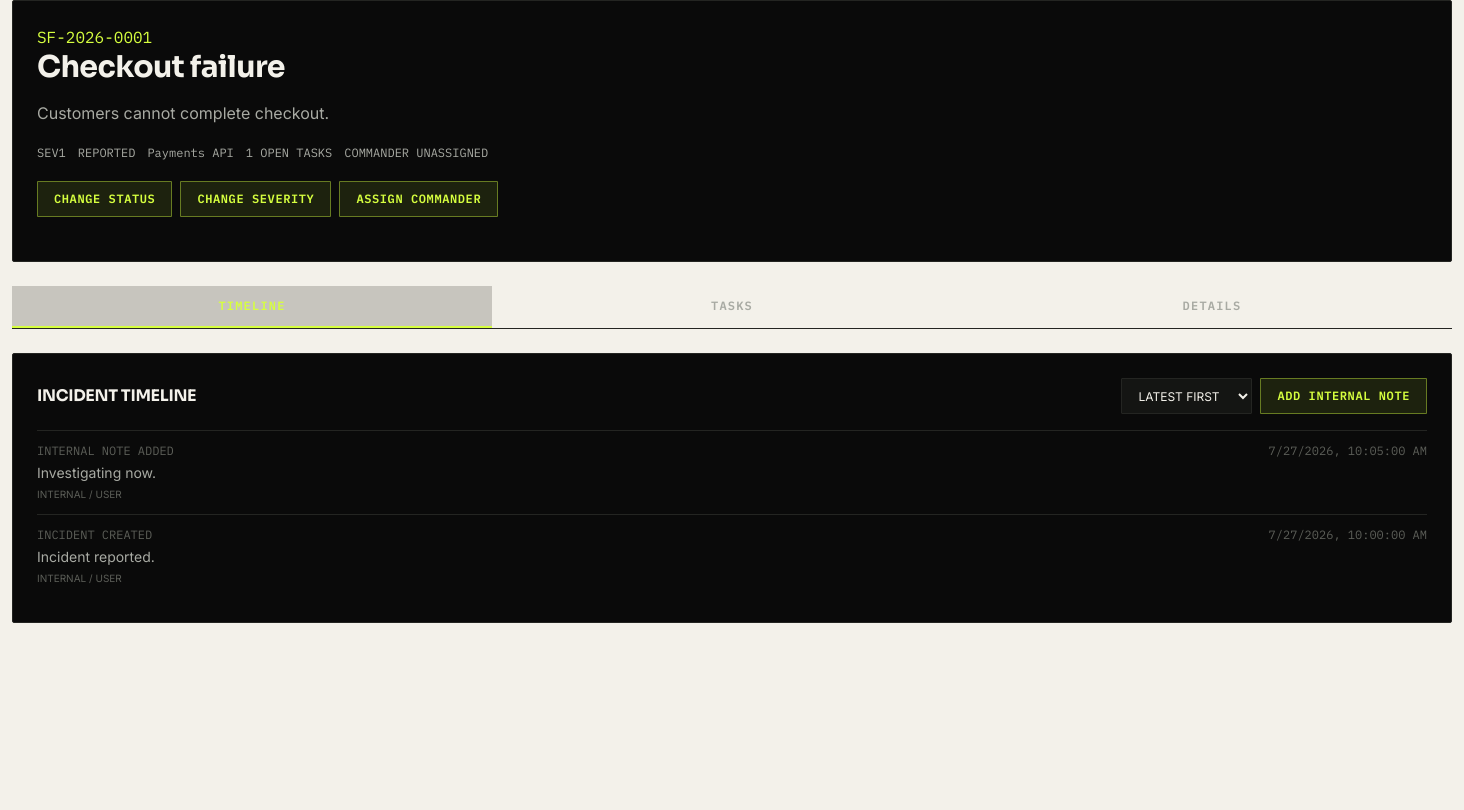
Phase 05 live coordination surfaces › disables claim while the mutation is pending to prevent duplicate interaction
Click the tab "TASKS": [732, 307] box 492,286 -> 972,328
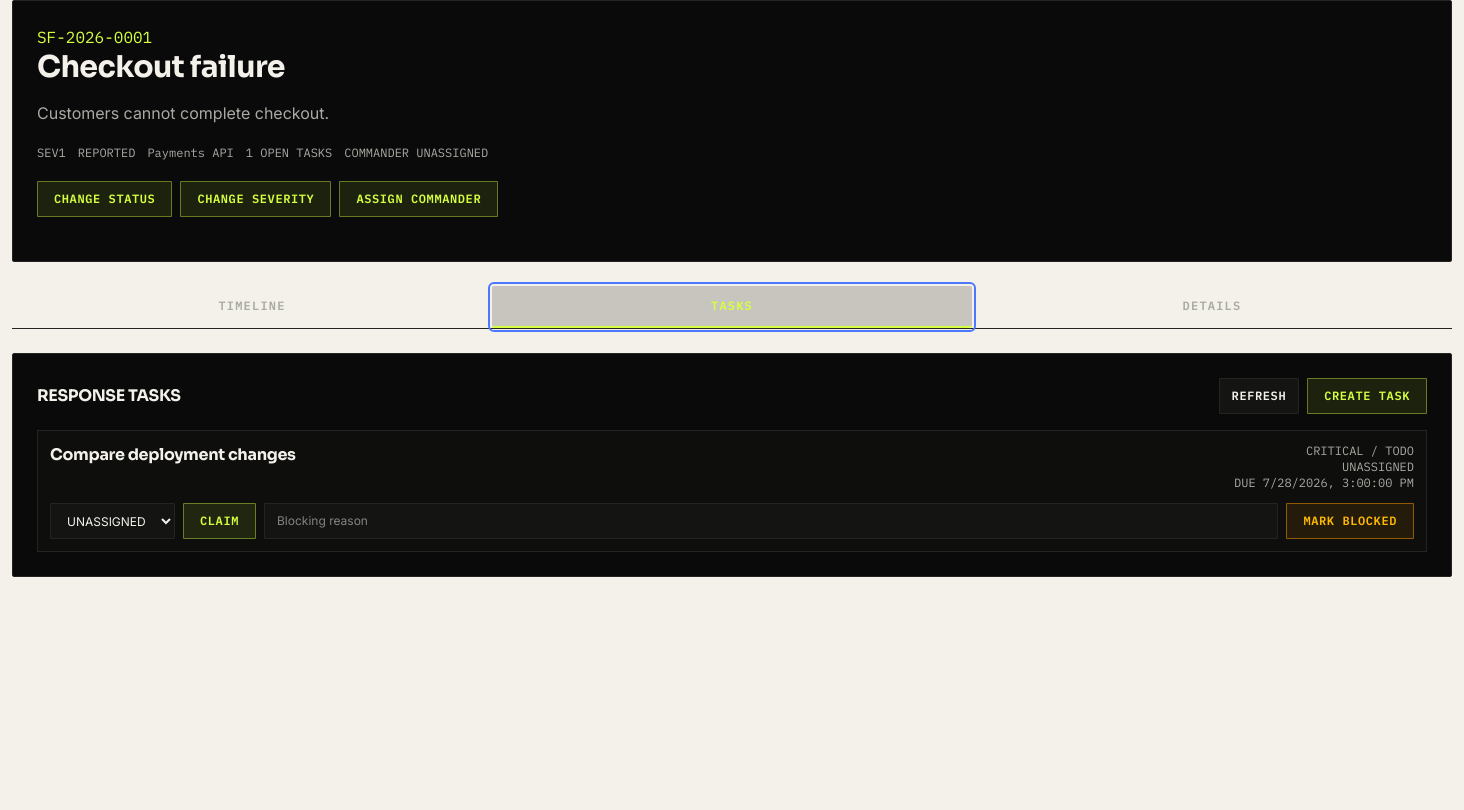
Click the button "CLAIM": [220, 521] box 183,503 -> 256,539
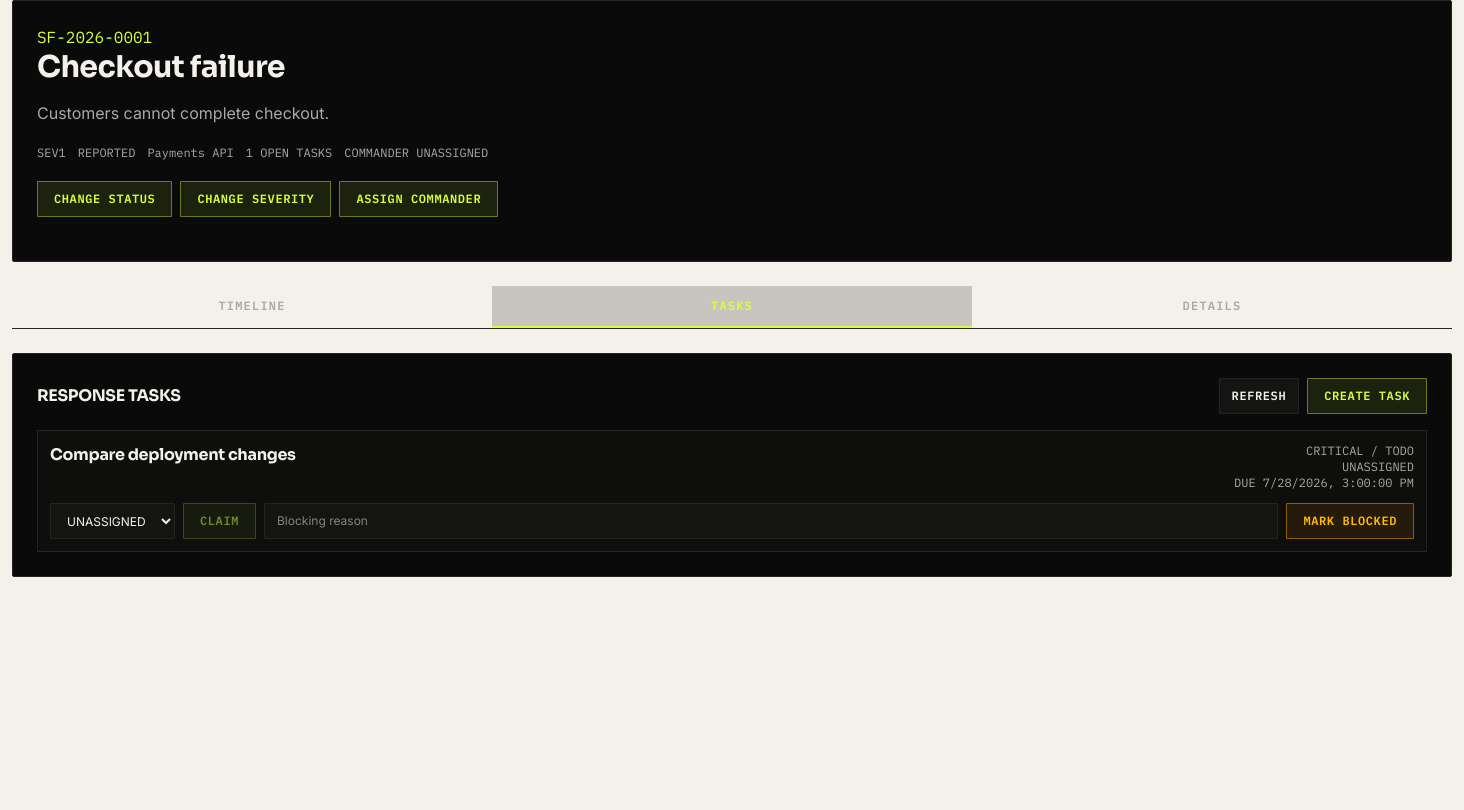
Check: the button "CLAIM" is disabled, box 183,503 -> 256,539
